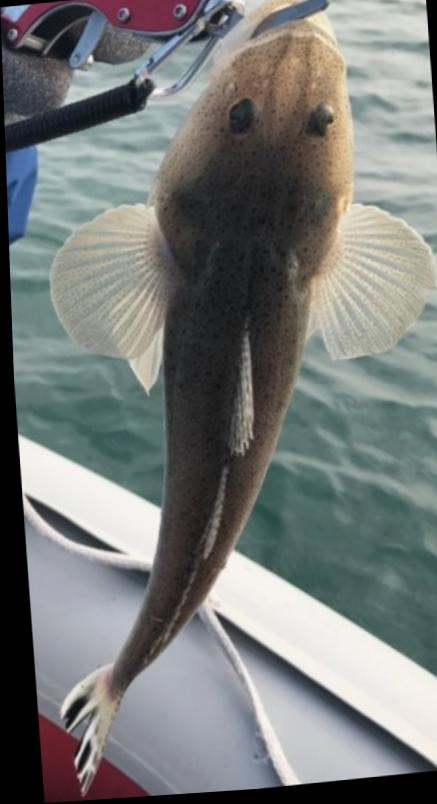fish: (43, 0, 430, 794)
